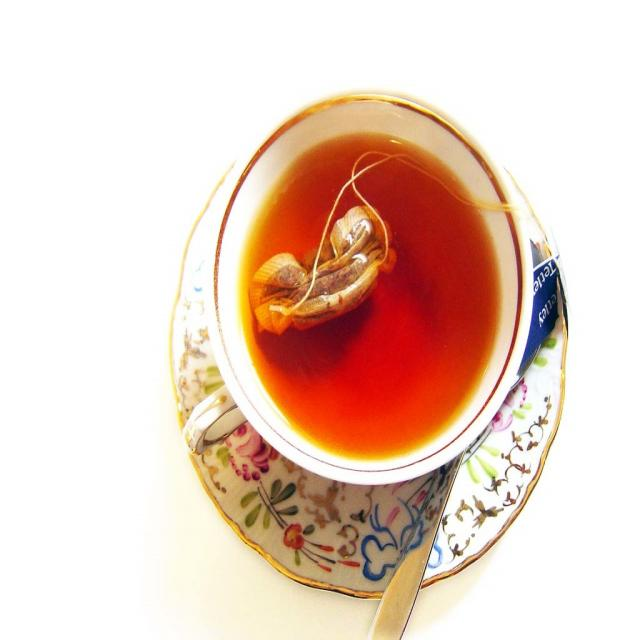Tea: (240, 130, 499, 460)
